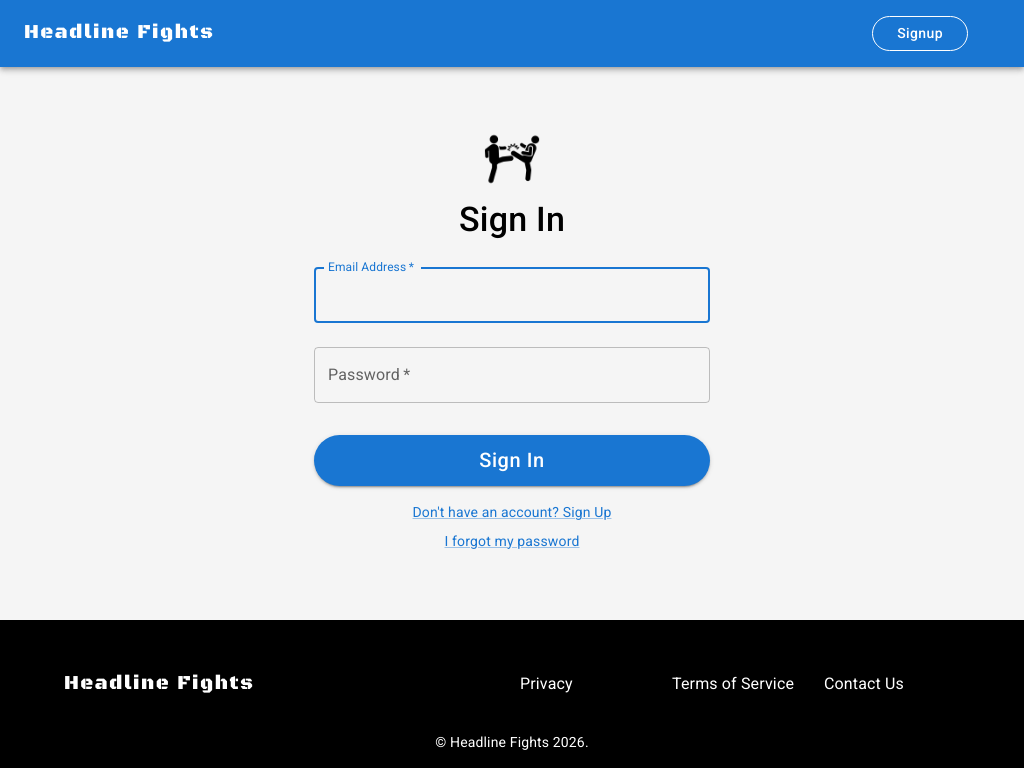
Test: Login page › shows error for 401 response
In the field labelled "Email Address *": {"x": 512, "y": 296} x1=314 y1=268 x2=710 y2=324, type "test@example.com"
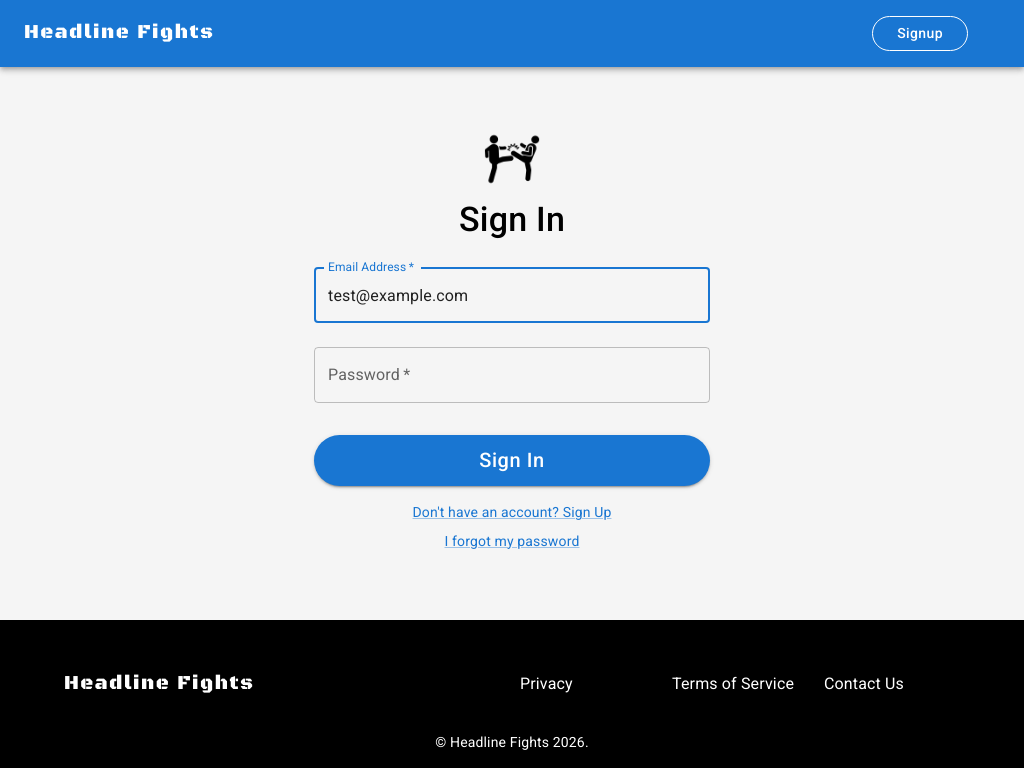
In the password field labelled "Password *": {"x": 512, "y": 376} x1=314 y1=348 x2=710 y2=404, type "wrongpass"
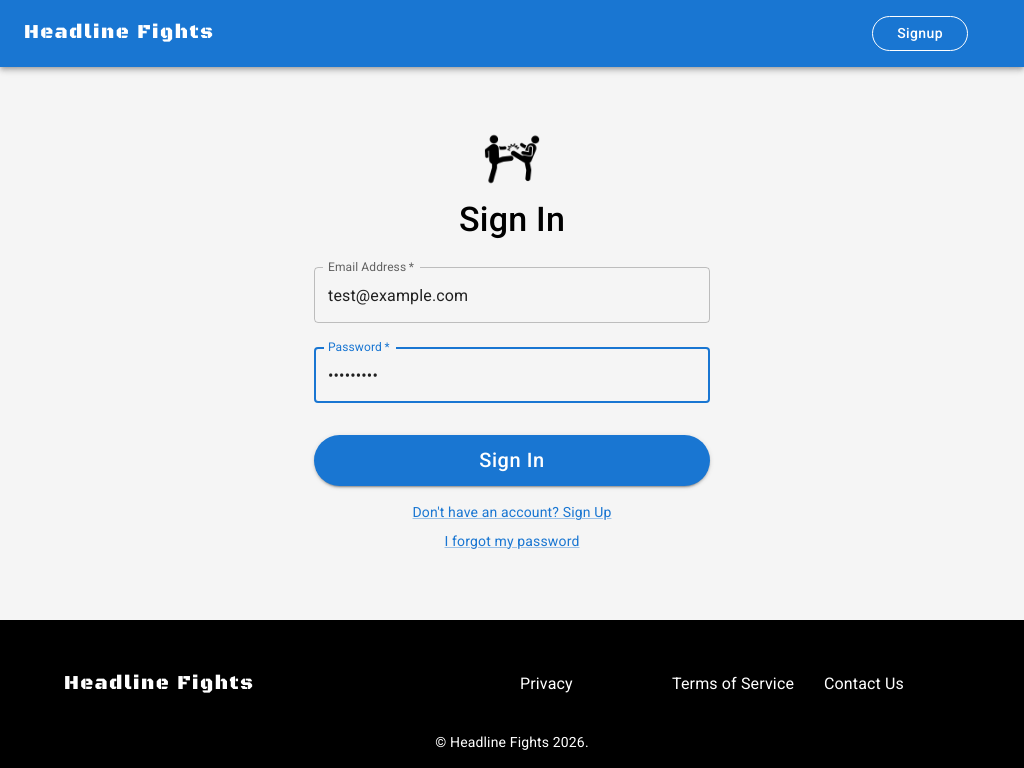
Submit the form "Sign In", box x1=314 y1=252 x2=710 y2=550
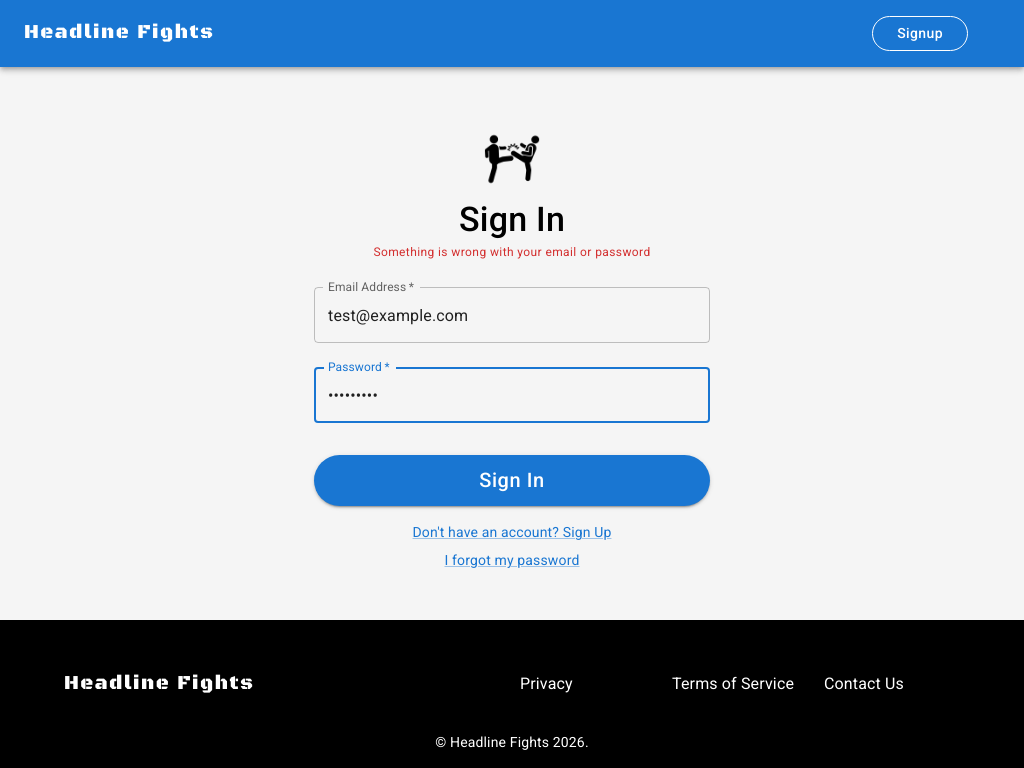
Now the text "Something is wrong with your email or password" is shown, box x1=373 y1=244 x2=651 y2=263
